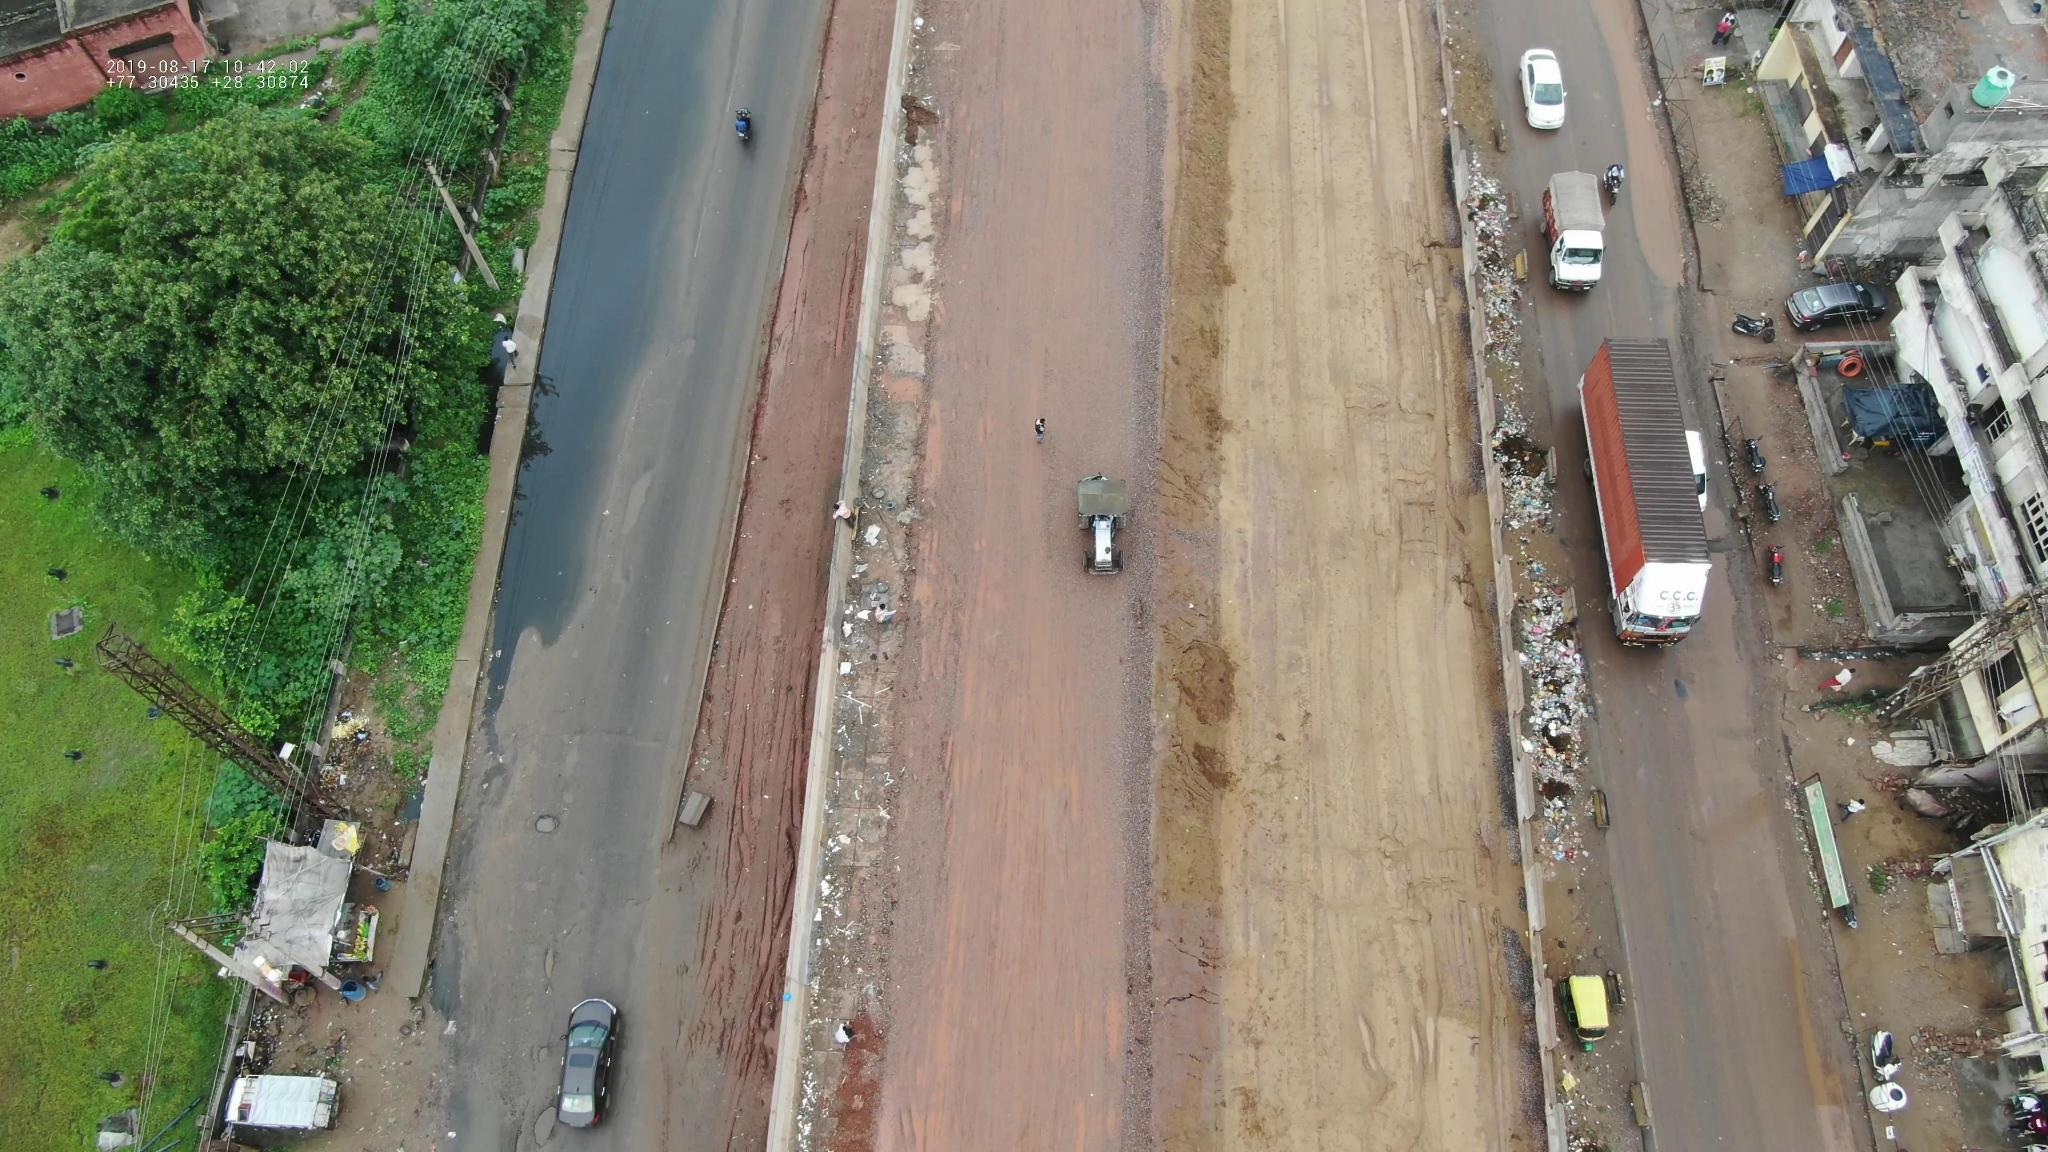Potholes: (505, 913, 568, 1127), (592, 452, 667, 563), (497, 1075, 575, 1152), (651, 324, 737, 370), (520, 791, 580, 854)
Road_side_garbage: (1497, 557, 1608, 831), (1449, 149, 1530, 361), (1471, 395, 1580, 537)
